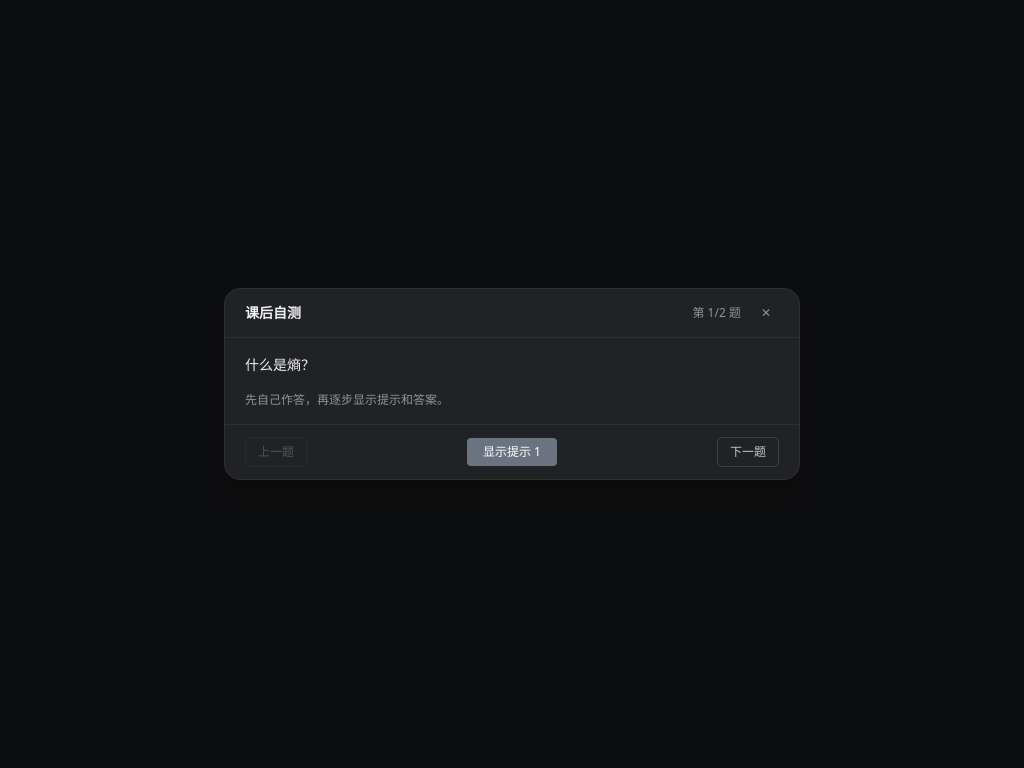
Test: SelfTestModal › pages with the footer buttons and resets the reveal state
Click the button "显示提示 1": {"x": 512, "y": 452} [467, 438, 557, 466]
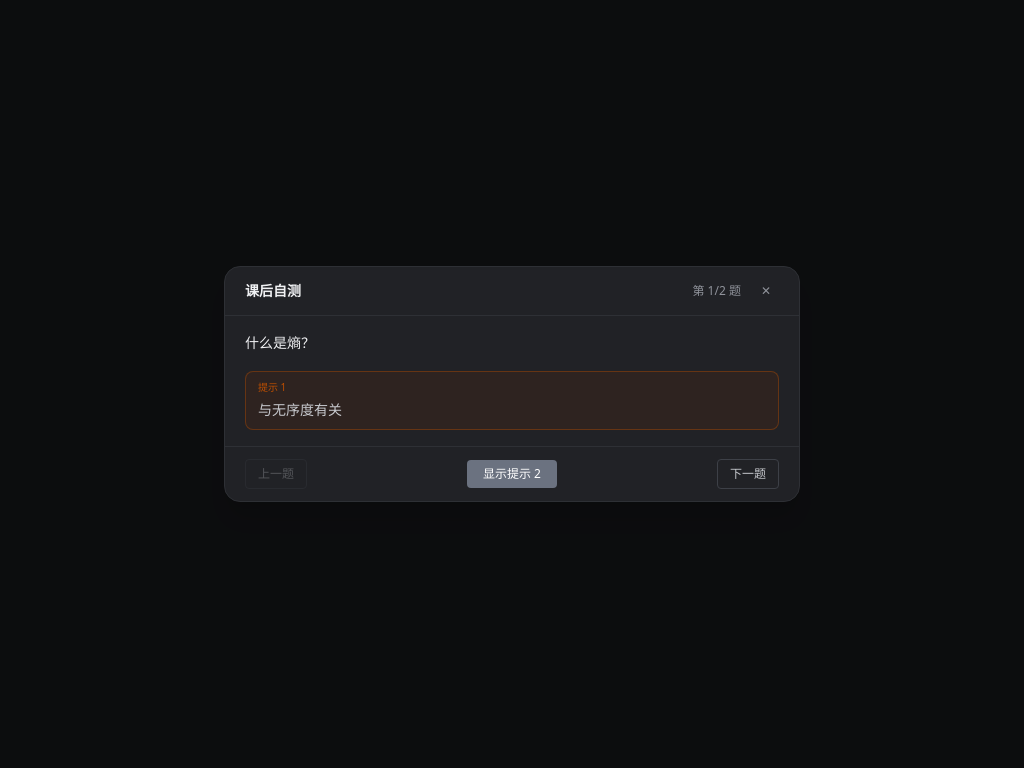
Check: the text "提示 1" is shown, box [258, 380, 286, 394]
Click the button "下一题": {"x": 748, "y": 474} [717, 459, 779, 489]
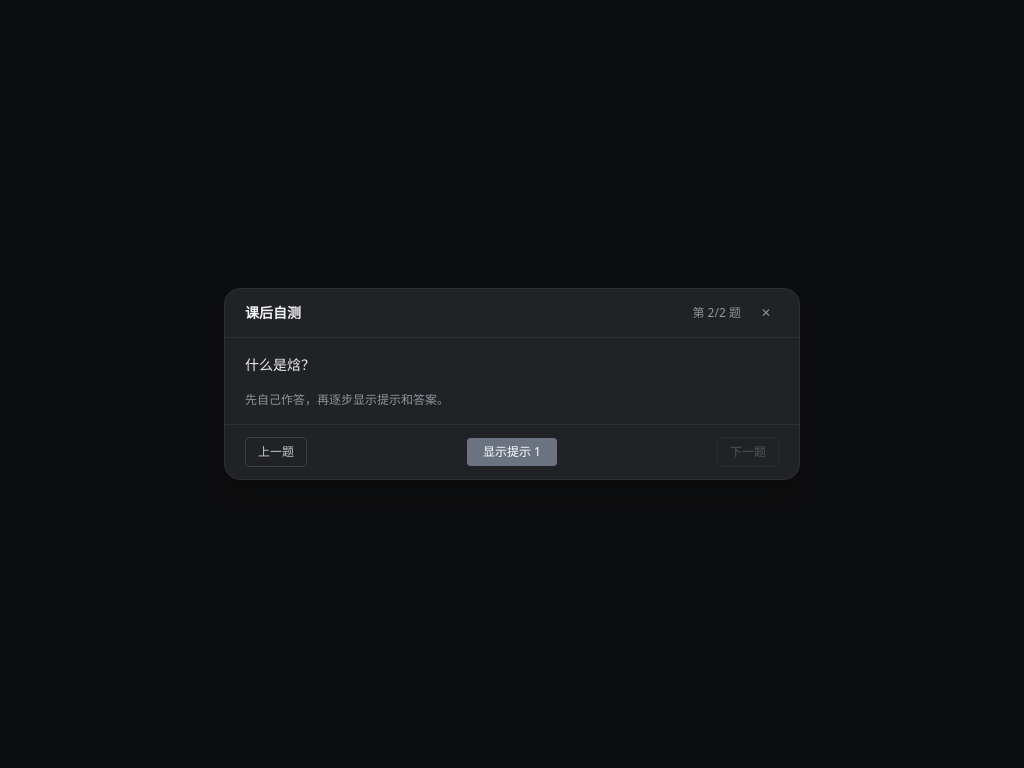
Check: the text "第 2/2 题" is shown, box [692, 305, 741, 321]
Click the button "上一题": {"x": 276, "y": 452} [245, 437, 307, 467]
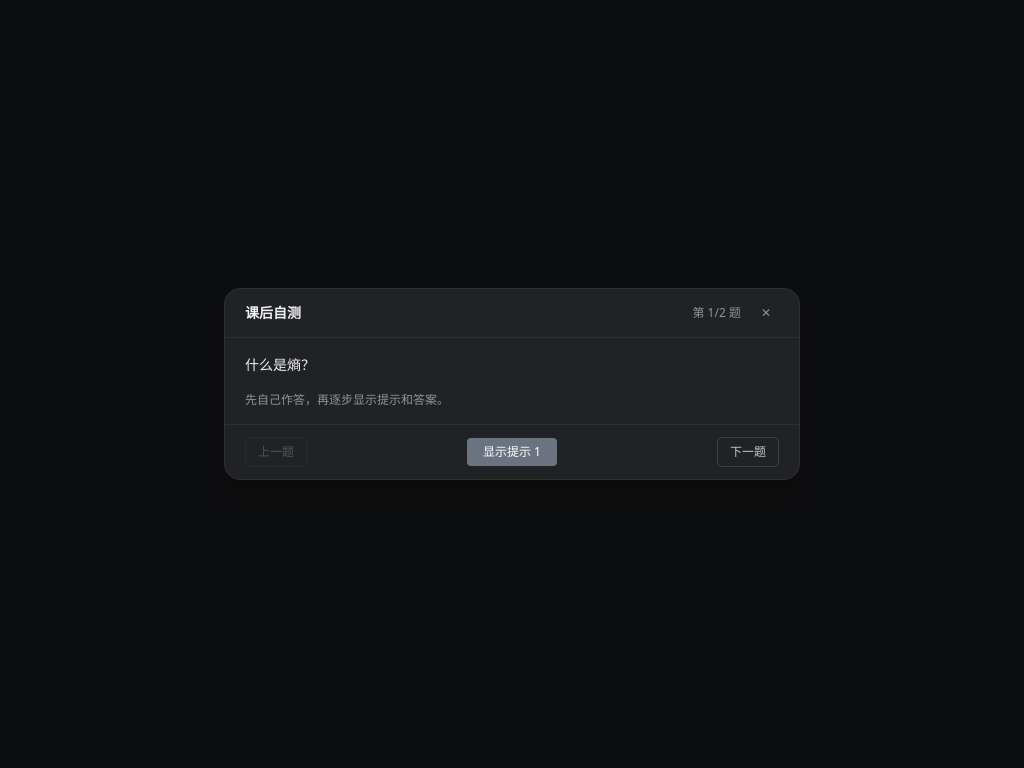
Check: the text "第 1/2 题" is shown, box [692, 305, 741, 321]
